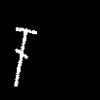double_crochet: (15, 28, 36, 85)
